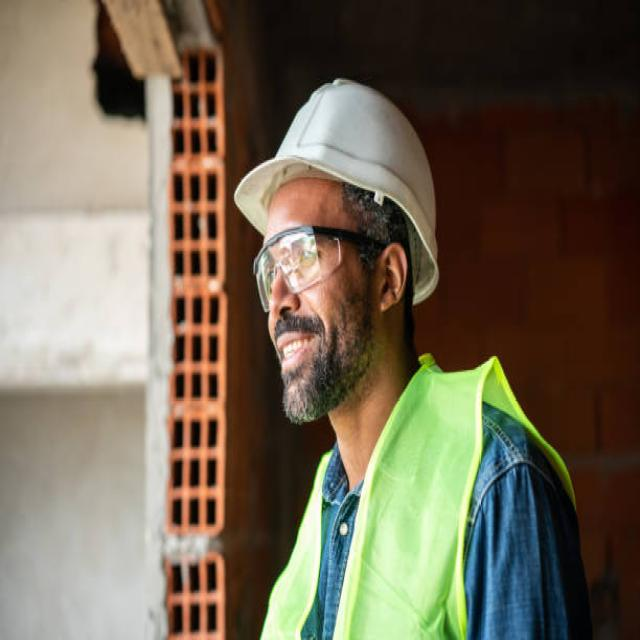goggles: (244, 218, 394, 317)
helmet: (230, 68, 445, 310)
vest: (244, 350, 582, 640)
